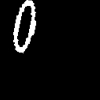chain: (13, 0, 35, 51)
